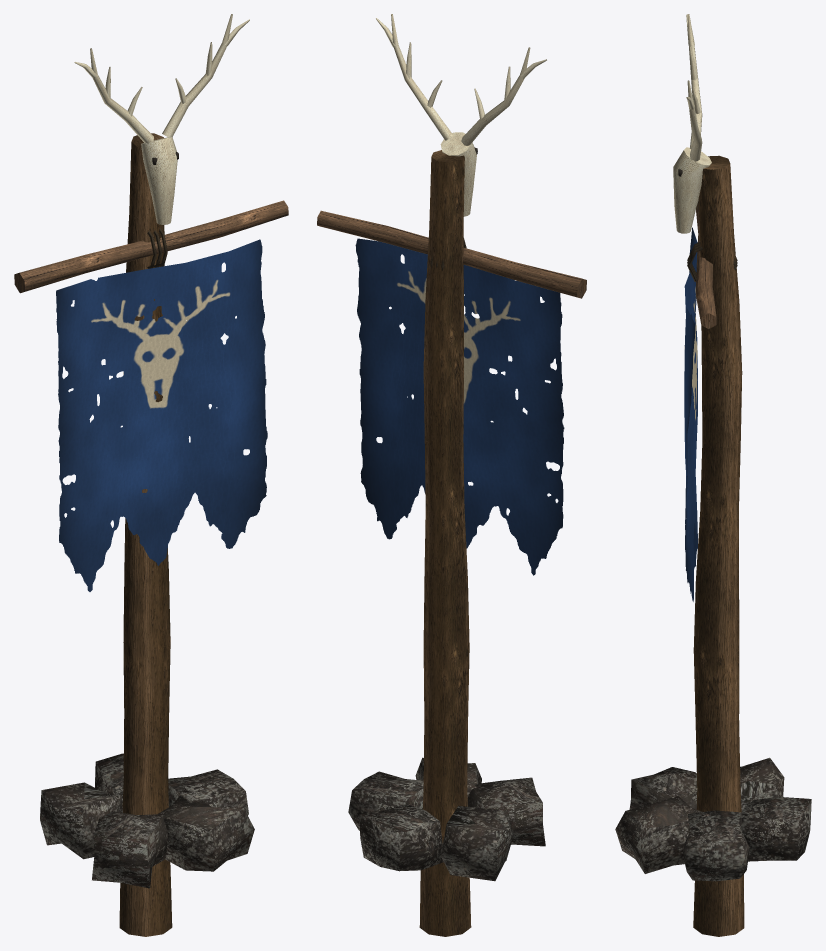
Rendered from SM_Bld_North_Banner.gltf.
3 renders of one model, left to right at view 1: azimuth 30°, elevation 25°; view 2: azimuth 150°, elevation 25°; view 3: azimuth 270°, elevation 25°, orthographic. The views are drawn at different scales.
Parts seen in each view (by area): view 1: SM_Bld_North_Banner; view 2: SM_Bld_North_Banner; view 3: SM_Bld_North_Banner.
Part boxes in pixels (<box>): SM_Bld_North_Banner: <box>14,14,288,936</box>; SM_Bld_North_Banner: <box>317,14,586,936</box>; SM_Bld_North_Banner: <box>615,14,811,936</box>.
Size of the model in its own units: 1.71 by 5.53 by 1.12.
7 materials, 6 textured.
